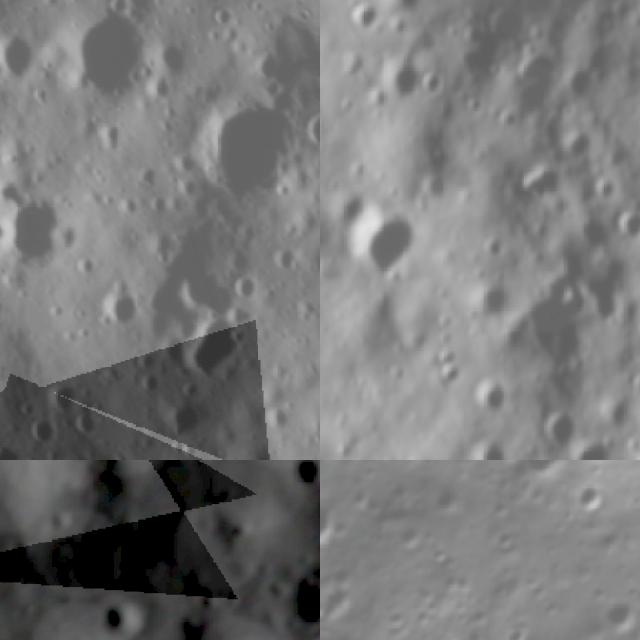crater: (50, 0, 170, 119), (188, 92, 304, 211), (480, 460, 640, 521), (164, 300, 256, 387), (0, 185, 77, 277), (348, 200, 428, 285), (66, 460, 171, 505), (160, 253, 227, 314), (88, 582, 155, 640), (154, 388, 215, 446), (94, 276, 152, 334), (0, 25, 50, 92), (320, 482, 357, 566), (506, 161, 562, 213), (469, 272, 518, 323), (594, 588, 640, 640), (570, 473, 618, 522), (554, 126, 599, 176), (14, 409, 58, 455), (431, 479, 474, 523), (542, 408, 583, 452), (276, 460, 320, 500), (37, 440, 122, 460), (470, 380, 510, 422), (390, 518, 430, 559), (40, 378, 78, 420), (344, 0, 383, 39), (612, 204, 640, 246), (0, 428, 34, 460), (570, 441, 621, 460), (472, 441, 518, 460), (501, 620, 535, 640), (486, 460, 530, 473), (576, 628, 611, 640), (320, 592, 332, 624)
